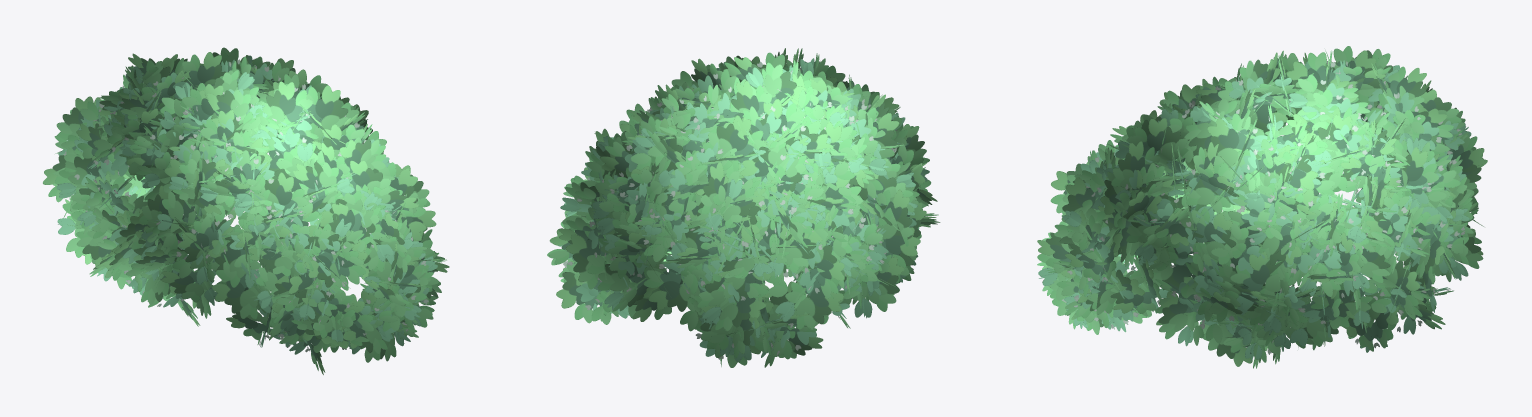
The model's file is bush_LOD0.fbx.
The picture shows the model from 3 angles, left to right: view 1: azimuth 30°, elevation 25°; view 2: azimuth 150°, elevation 25°; view 3: azimuth 270°, elevation 25°; orthographic projection. The views are drawn at different scales.
Visible parts, largest first — view 1: BushLeaf.001; view 2: BushLeaf.001; view 3: BushLeaf.001.
Boxes of the visible parts, bbox=[...] form: BushLeaf.001: bbox=[43, 47, 449, 374]; BushLeaf.001: bbox=[547, 48, 940, 367]; BushLeaf.001: bbox=[1037, 46, 1487, 368].
Size of the model in its own units: 492 by 408 by 319.
